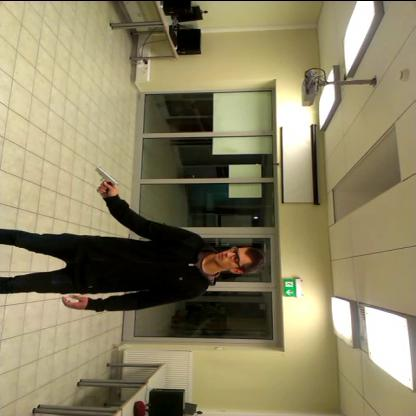Pistol: (84, 162, 132, 197)
